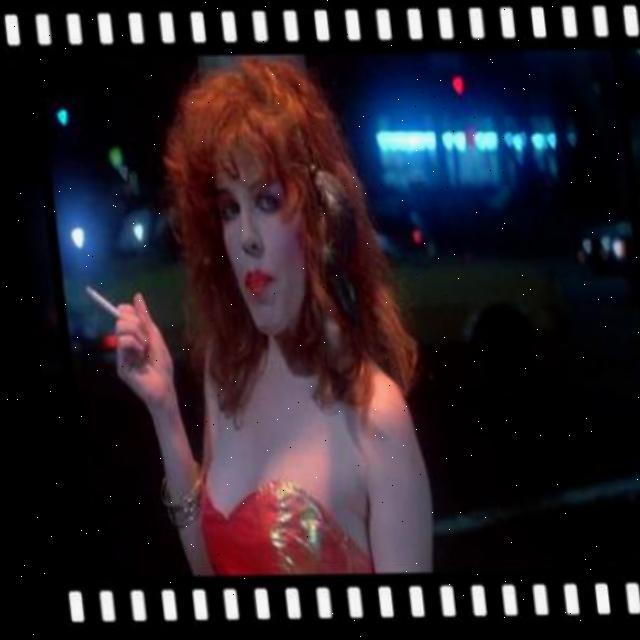cigarette: (76, 284, 113, 320)
